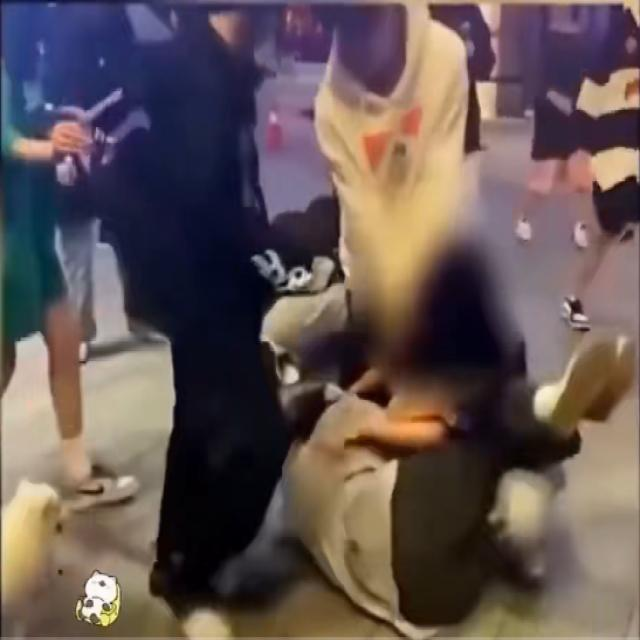fight: (276, 337, 624, 616)
nofight: (136, 0, 275, 636), (0, 0, 137, 521), (306, 2, 474, 276)
